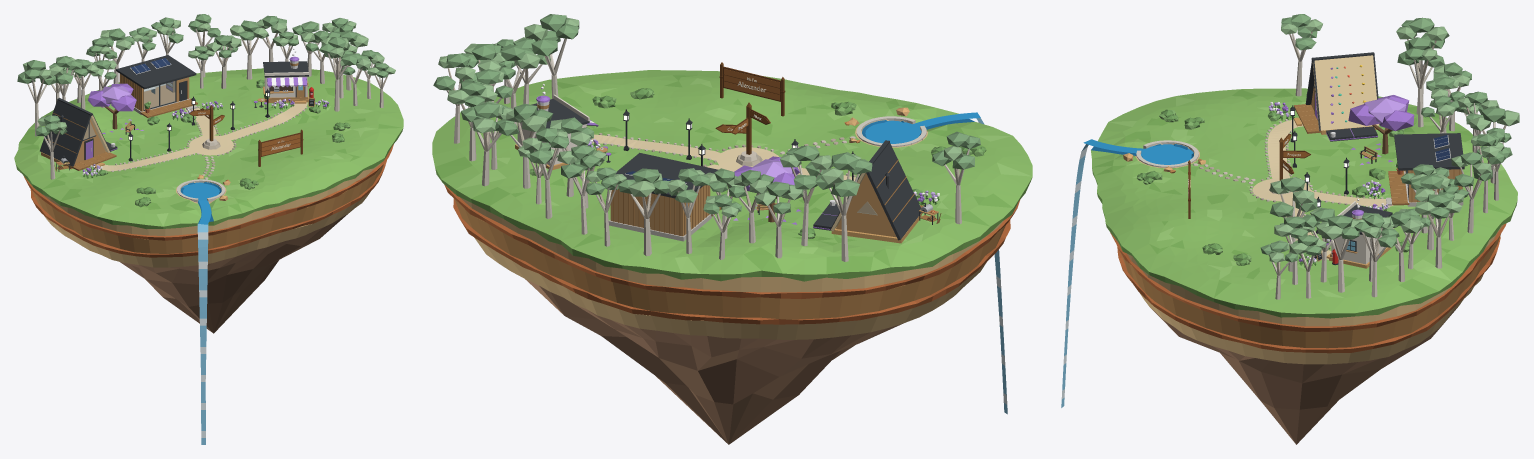
3 renders of one model, left to right at view 1: azimuth 30°, elevation 25°; view 2: azimuth 150°, elevation 25°; view 3: azimuth 270°, elevation 25°, orthographic. The views are drawn at different scales.
Parts seen in each view (by area): view 1: Island_Top, Island_Cliffs, Island_Underside, Studio.001, AFrame.001, Cafe.001, Island_Waterfall, Jacaranda.001, GumTreeTall.002, GumTreeTall.004, GumTreeTall.005, GumTree.012 (+21 smaller); view 2: Island_Top, Island_Cliffs, Island_Underside, AFrame.001, Studio.001, GumTreeTall.004, GumTreeTall.002, GumTreeTall.006, GumTree.009, Sign_Welcome.001, GumTreeTall.005, GumTreeTall.007 (+20 smaller); view 3: Island_Top, Island_Cliffs, Island_Underside, AFrame.001, Studio.001, Jacaranda.001, GumTreeTall.002, GumTreeTall.006, Cafe.001, GumTreeTall.005, GumTreeTall.007, GumTree.010 (+22 smaller).
Part boxes in pixels (box(x1,y1,x2,y2)): Island_Top: box(14, 68, 403, 229); Island_Cliffs: box(24, 144, 393, 267); Island_Underside: box(120, 214, 347, 333); Studio.001: box(116, 55, 197, 117); AFrame.001: box(40, 98, 116, 170); Cafe.001: box(263, 61, 308, 103); Island_Waterfall: box(197, 224, 208, 444); Jacaranda.001: box(88, 83, 143, 139); GumTreeTall.002: box(319, 37, 357, 111); GumTreeTall.004: box(17, 60, 55, 136); GumTreeTall.005: box(35, 115, 67, 179); GumTree.012: box(230, 20, 268, 79); Island_Top: box(432, 70, 1032, 281); Island_Cliffs: box(444, 185, 1019, 339); Island_Underside: box(525, 279, 903, 444); AFrame.001: box(830, 140, 923, 243); Studio.001: box(608, 152, 721, 241); GumTreeTall.004: box(815, 152, 872, 261); GumTreeTall.002: box(524, 14, 579, 98); GumTreeTall.006: box(780, 145, 832, 246); GumTree.009: box(618, 168, 670, 256); Sign_Welcome.001: box(719, 62, 785, 116); GumTreeTall.005: box(932, 131, 980, 224); GumTreeTall.007: box(522, 128, 569, 218); Island_Top: box(1091, 88, 1517, 318); Island_Cliffs: box(1110, 223, 1506, 364); Island_Underside: box(1150, 307, 1457, 444); AFrame.001: box(1293, 52, 1380, 134); Studio.001: box(1386, 133, 1464, 206); Jacaranda.001: box(1348, 95, 1414, 165); GumTreeTall.002: box(1270, 177, 1317, 271); GumTreeTall.006: box(1397, 37, 1444, 127); Cafe.001: box(1326, 201, 1392, 268); GumTreeTall.005: box(1281, 14, 1322, 96); GumTreeTall.007: box(1451, 152, 1492, 233); GumTree.010: box(1415, 194, 1462, 268).
Bounding box in the file's own units: 44.02 × 33.92 × 37.9.
